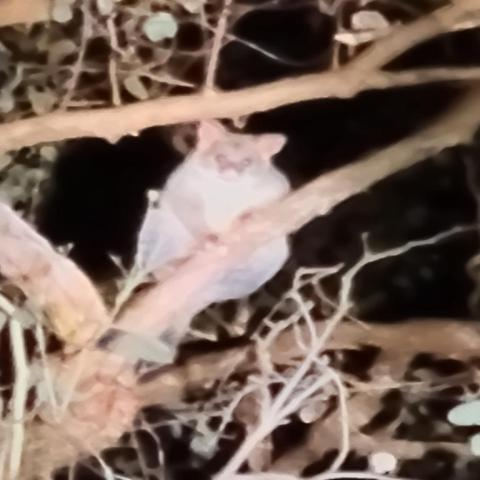small_animal: (146, 118, 290, 302)
